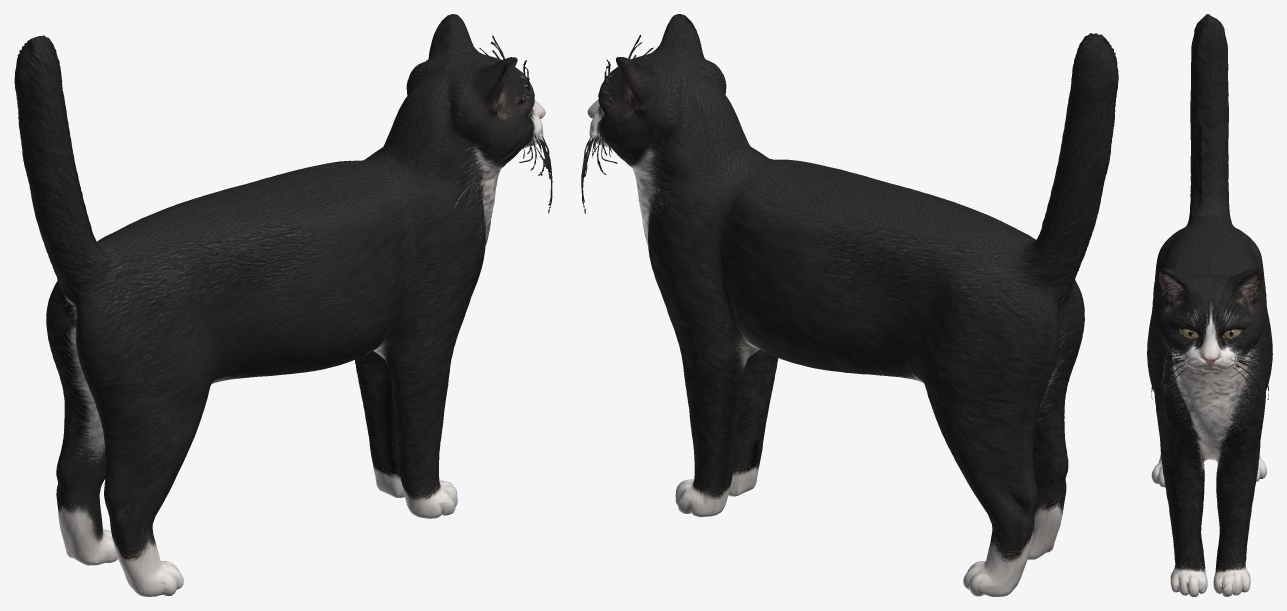
File: PROFMEOW.glb
The picture shows the model from 3 angles, left to right: view 1: azimuth 30°, elevation 25°; view 2: azimuth 150°, elevation 25°; view 3: azimuth 270°, elevation 25°; orthographic projection. The views are drawn at different scales.
Parts seen in each view (by area): view 1: tripo_node_83bf0a74-8663-4bd6-beb1-8007f1b9a7b2; view 2: tripo_node_83bf0a74-8663-4bd6-beb1-8007f1b9a7b2; view 3: tripo_node_83bf0a74-8663-4bd6-beb1-8007f1b9a7b2.
Boxes of the visible parts, <box> form: tripo_node_83bf0a74-8663-4bd6-beb1-8007f1b9a7b2: <box>14,14,552,596</box>; tripo_node_83bf0a74-8663-4bd6-beb1-8007f1b9a7b2: <box>581,14,1118,596</box>; tripo_node_83bf0a74-8663-4bd6-beb1-8007f1b9a7b2: <box>1147,14,1272,596</box>.
Bounding box in the file's own units: 0.9862 × 0.9999 × 0.2644.
Materials: 1 (1 with a texture image).
